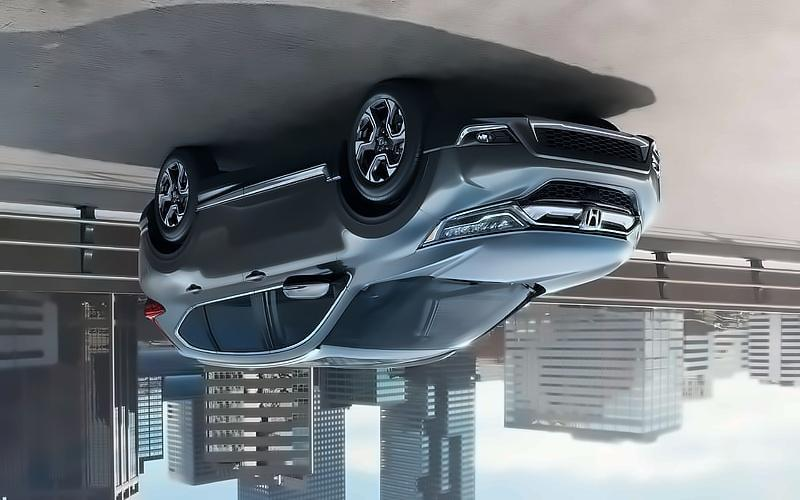Car hood: (367, 228, 638, 290)
Fender - -F-L-: (322, 154, 441, 296)
Fender - -R-L-: (131, 187, 212, 328)
Front bumper: (430, 107, 666, 211)
Headlight - -L-: (414, 202, 526, 249)
Passenger-s door - -F-L-: (236, 148, 346, 379)
Passenger-s door - -R-L-: (169, 148, 275, 379)
Rear light - -L-: (138, 291, 169, 323)
Side bumper - -L-: (184, 138, 343, 223)
Side mirror - -L-: (281, 270, 333, 305)
